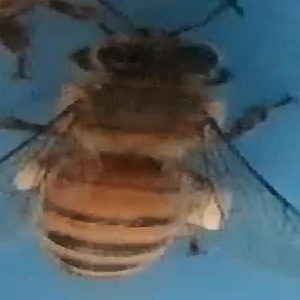bee: (33, 25, 297, 283)
